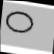no answer: (3, 7, 38, 35)
